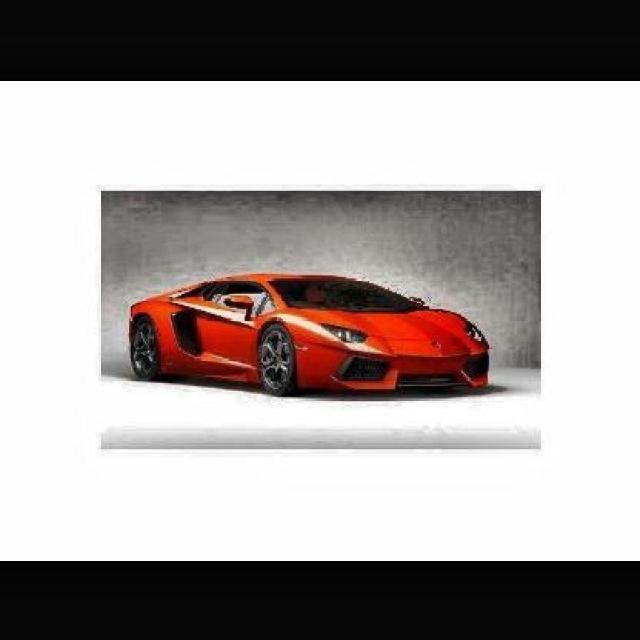red: (118, 276, 483, 402)
